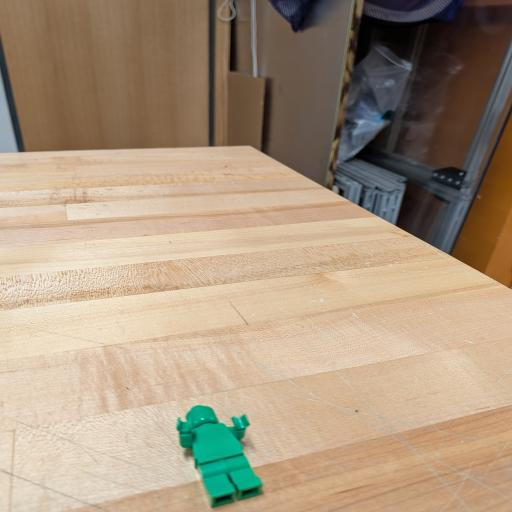Minifig: (177, 406, 261, 506)
